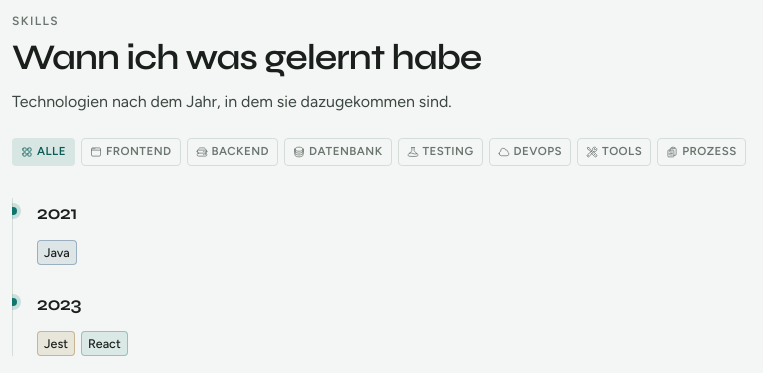
Scenario: TechTimeline › filters technologies by category
Check: the text "React" is shown, box [81,331,128,356]
Check: the text "Jest" is shown, box [37,331,75,356]
Click the button "Testing" at (440,152), box [398,138,482,166]
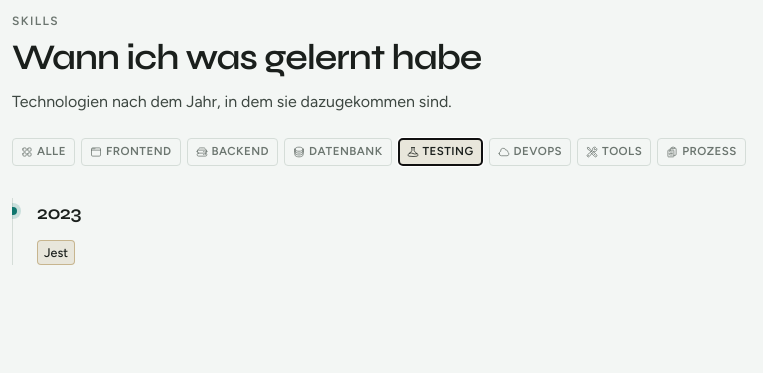
Check: the text "Jest" is shown, box [37,240,75,265]
Check: the text "React" is gone
Check: the heading "2021" is gone
